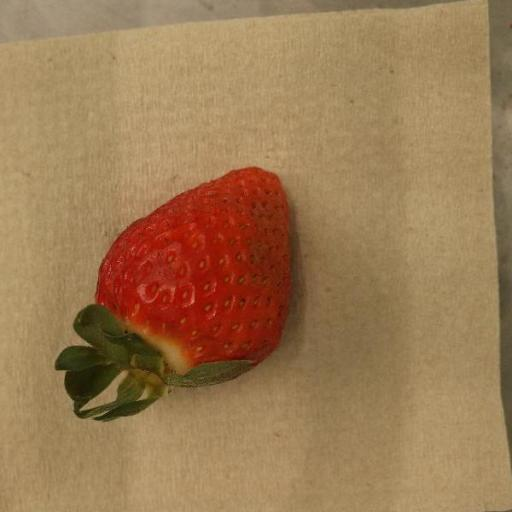Strawberry: (54, 167, 291, 424)
